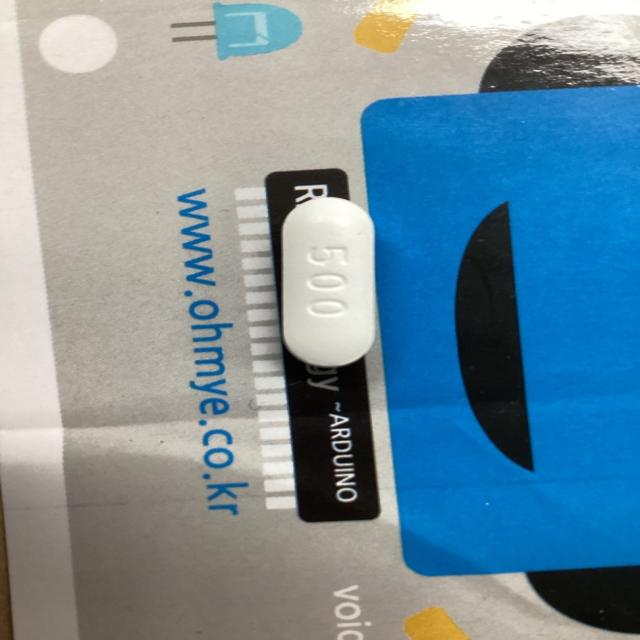-: (270, 175, 403, 391)
